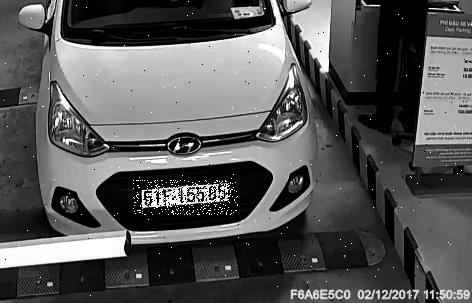License-plate: (135, 181, 240, 216)
